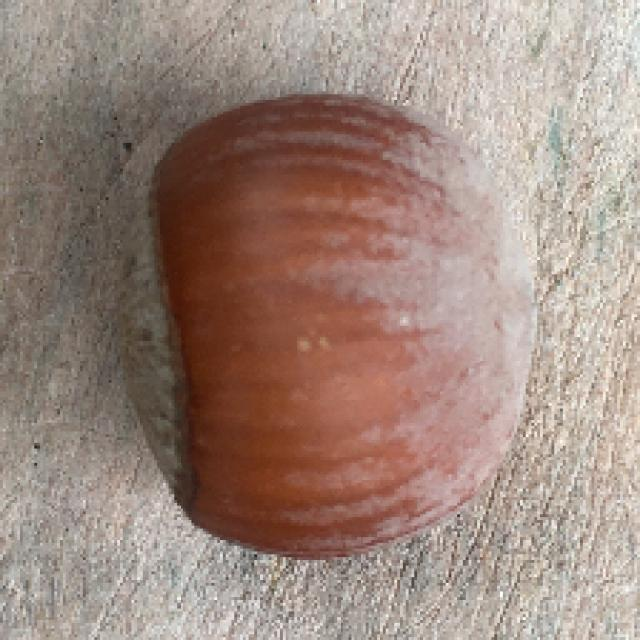qualityHazelnut: (114, 90, 534, 559)
